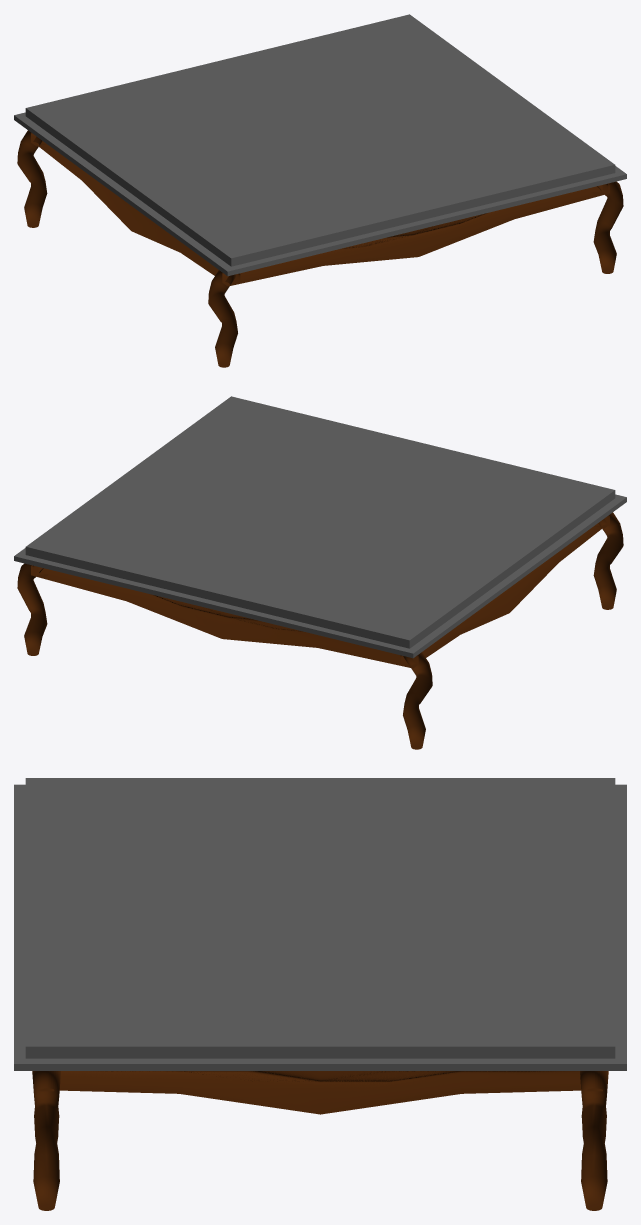
File: AntiqueTable.fbx
The picture shows the model from 3 angles, top to bottom: view 1: azimuth 30°, elevation 25°; view 2: azimuth 150°, elevation 25°; view 3: azimuth 270°, elevation 25°; orthographic projection. The views are drawn at different scales.
Visible parts, largest first — view 1: Cube; view 2: Cube; view 3: Cube.
Part boxes in pixels (x1,y1,x2,y2): Cube: (14, 14, 626, 367); Cube: (14, 396, 626, 749); Cube: (14, 778, 626, 1210).
Size of the model in its own units: 762 by 198 by 683.
